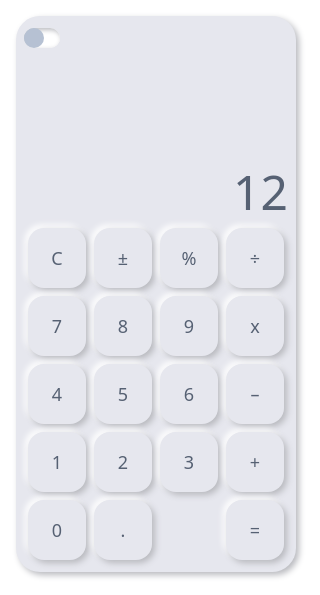
Scenario: сбросить текущее значение
This screenshot has width=320, height=595.
Click the button with test id "btn-num-cancel".
click(57, 258)  # box [28,228,86,288]
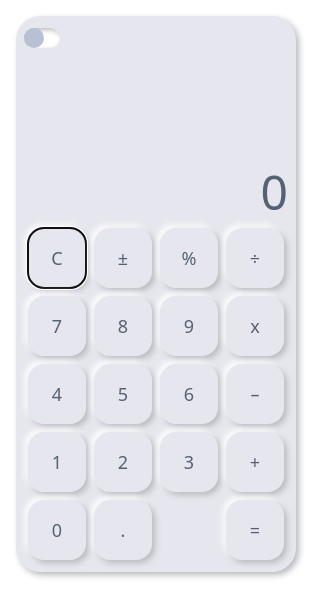
expect the text with test id "display_value" reads "0": met, box [260,159,288,224]
